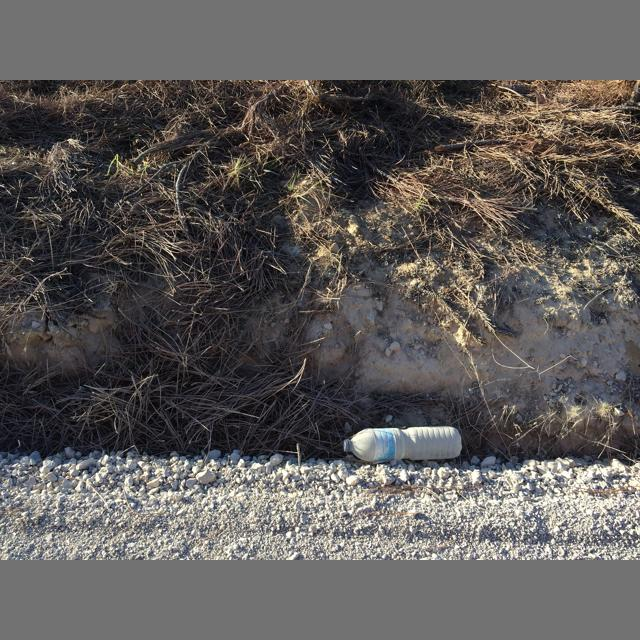litter: (343, 427, 462, 462), (343, 440, 349, 452)
